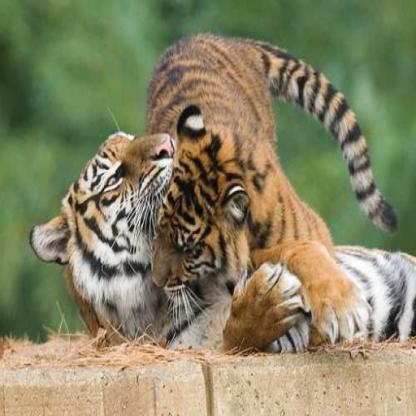Tiger: (43, 119, 415, 358), (144, 24, 323, 287)
